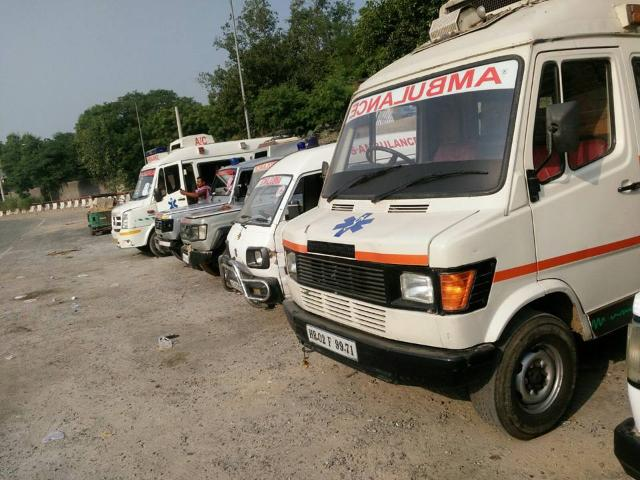ambulance: (275, 0, 640, 436), (110, 129, 287, 252), (229, 140, 341, 307)
